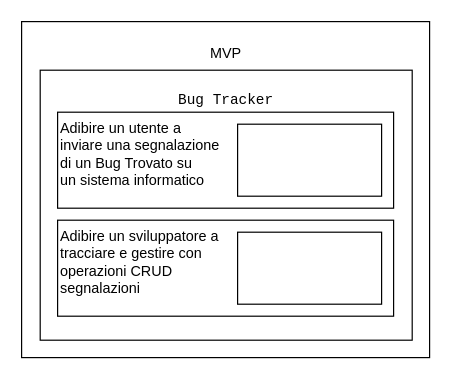
The diagram is 450 pixels wide and 378 high, and some of its shapes have lost their labels. Each missing label, with the centre of its shape:
"Conservare Dati inviati da un form" goes at [309,159].
"Manipolare dati da una lista" goes at [309,267].
